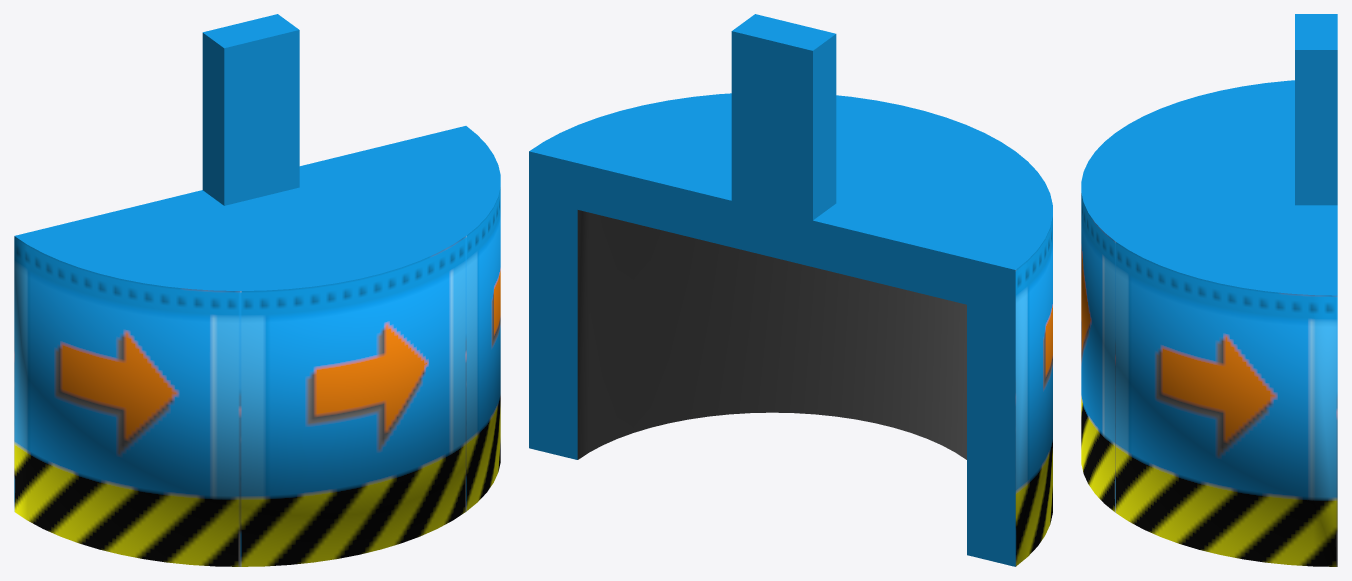
Rendered from convert3.obj.
The picture shows the model from 3 angles, left to right: view 1: azimuth 30°, elevation 25°; view 2: azimuth 150°, elevation 25°; view 3: azimuth 270°, elevation 25°; orthographic projection. The views are drawn at different scales.
Parts seen in each view (by area): view 1: ColobotMesh_1.001_ColobotMesh_.001, ColobotMesh_1_ColobotMesh_; view 2: ColobotMesh_1.001_ColobotMesh_.001, ColobotMesh_1_ColobotMesh_; view 3: ColobotMesh_1.001_ColobotMesh_.001, ColobotMesh_1_ColobotMesh_.
Boxes of the visible parts, x1=… form: ColobotMesh_1.001_ColobotMesh_.001: x1=14, y1=126, x2=500, y2=566; ColobotMesh_1_ColobotMesh_: x1=202, y1=14, x2=299, y2=205; ColobotMesh_1.001_ColobotMesh_.001: x1=529, y1=93, x2=1052, y2=566; ColobotMesh_1_ColobotMesh_: x1=731, y1=14, x2=836, y2=220; ColobotMesh_1.001_ColobotMesh_.001: x1=1081, y1=80, x2=1337, y2=566; ColobotMesh_1_ColobotMesh_: x1=1295, y1=14, x2=1337, y2=205.
Size of the model in its own units: 12 by 11 by 5.99.
